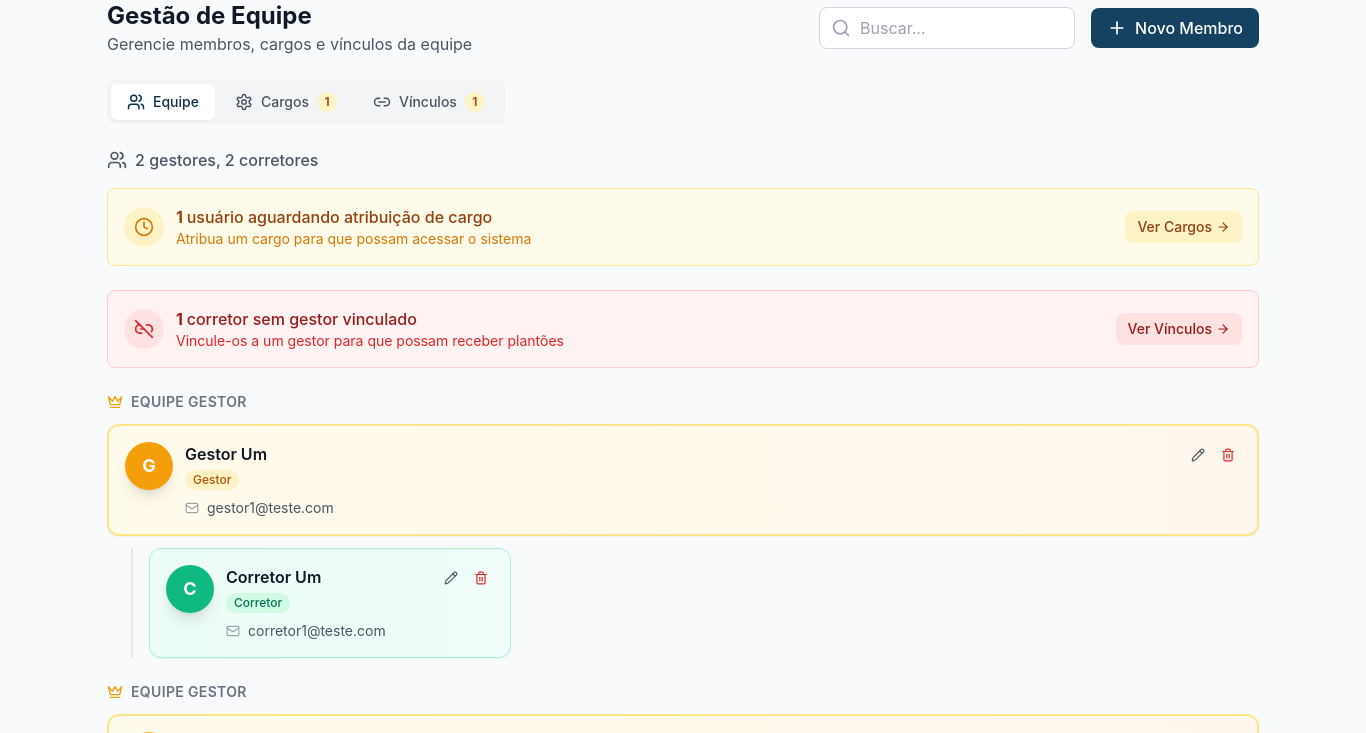
GestaoEquipe - Visão do Diretor › deve abrir modal ao clicar em Novo Membro
Click the button "Novo Membro" at (1175, 28), box [1091, 8, 1259, 48]
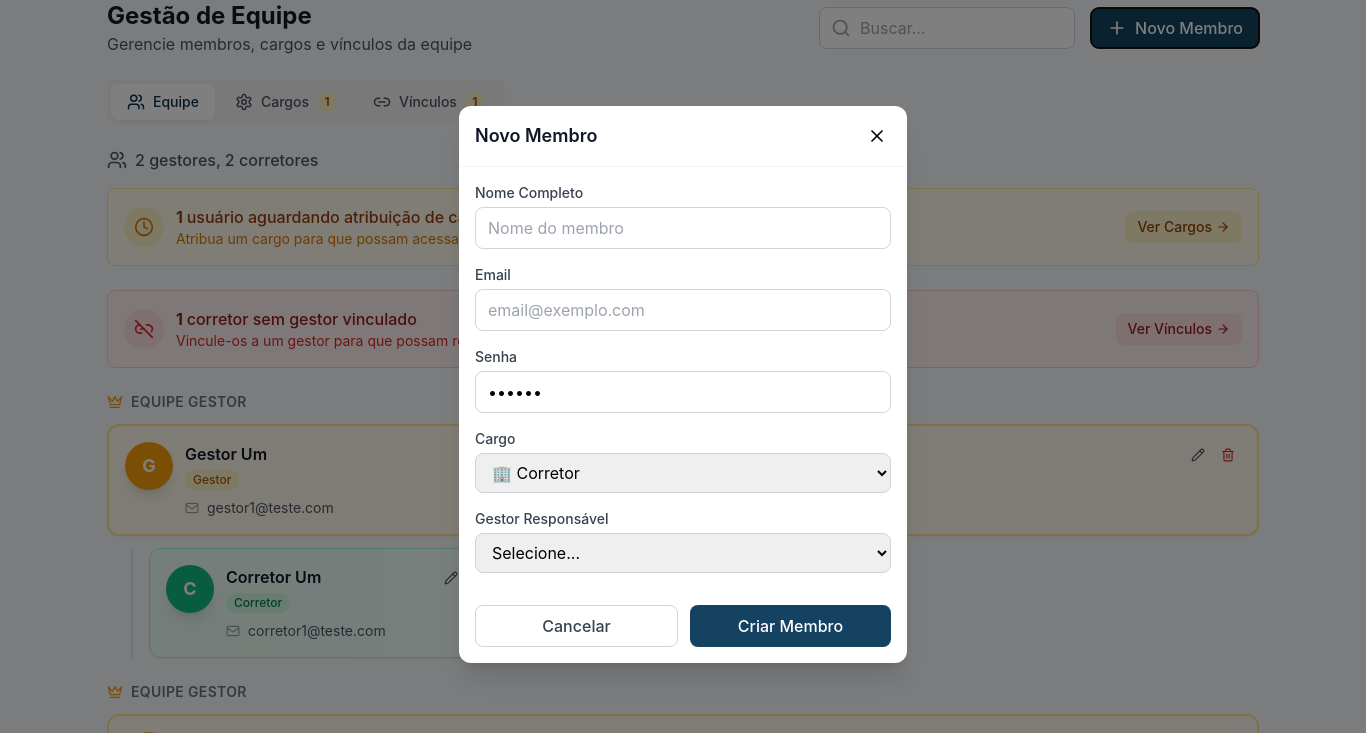
expect the heading "Novo Membro" is shown: met, box [475, 122, 597, 150]
expect the field with placeholder "Nome do membro" is shown: met, box [475, 206, 891, 248]
